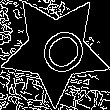O_SW: (23, 17, 87, 82)
